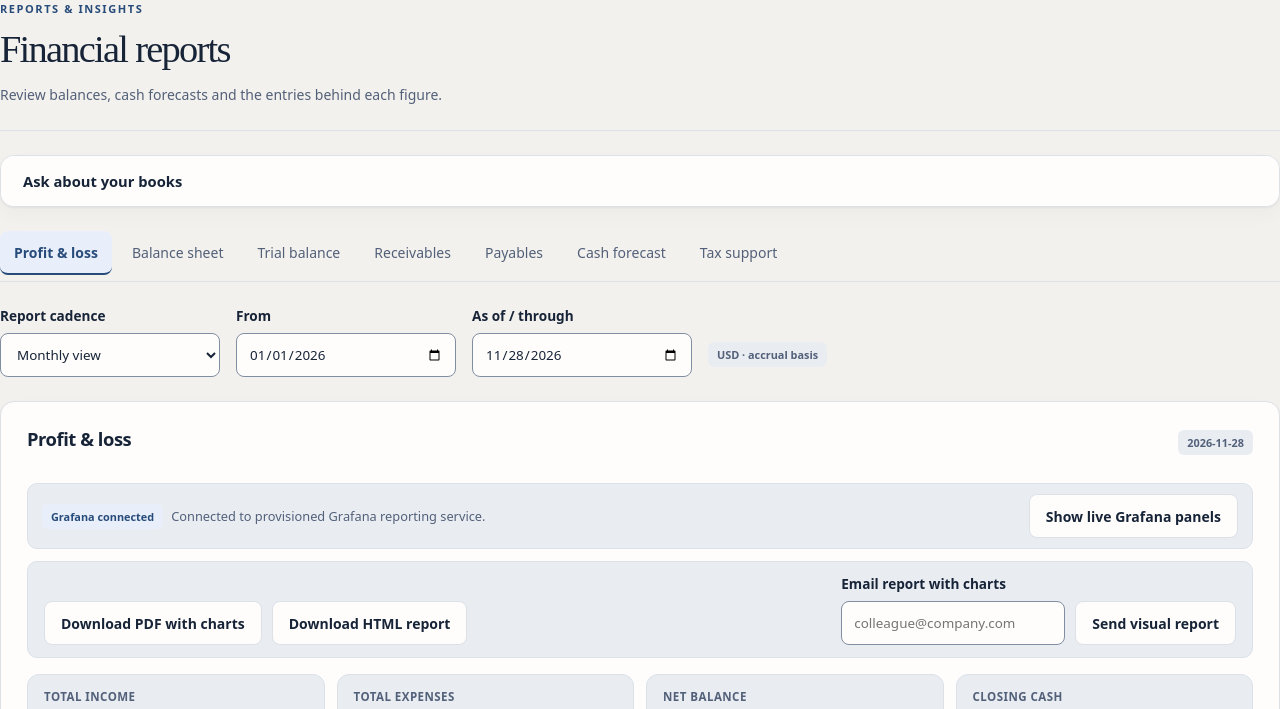
Test case: Grafana & visual financial / audit reports › renders Profit & Loss KPIs, charts, live Grafana toggle, and supporting table together
Expected: the text "Grafana connected" is shown, x1=42 y1=504 x2=163 y2=529
Note: Toggle live Grafana iframe panel
Click the button "Show live Grafana panels".
click(1133, 516)  # box x1=1029 y1=494 x2=1238 y2=538
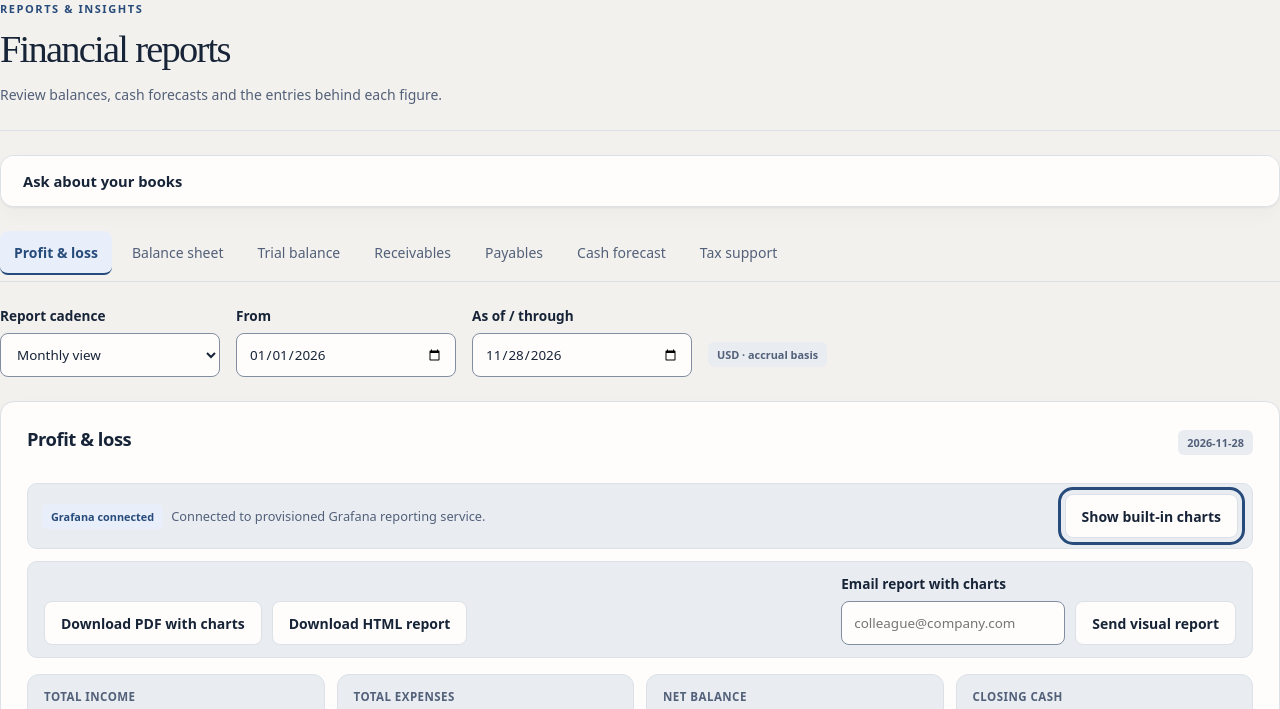
Click the tab "Balance sheet".
click(178, 253)  # box x1=118 y1=231 x2=237 y2=275
(page scrolled)
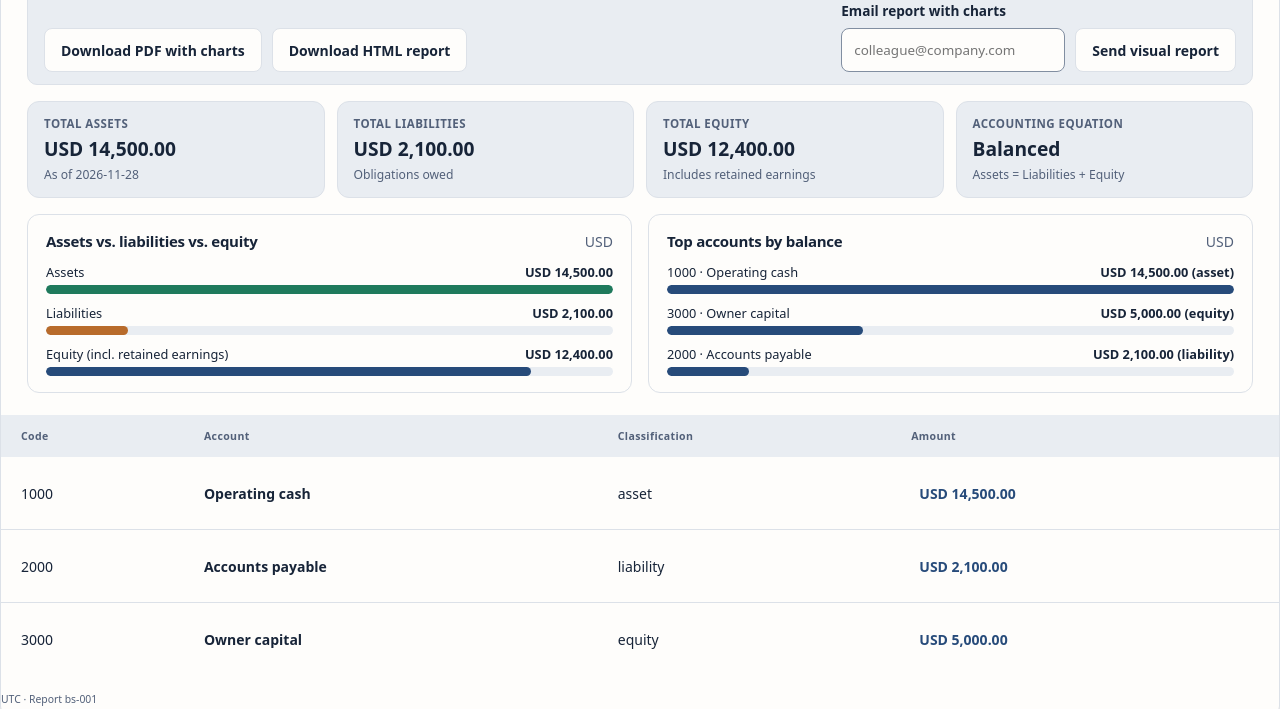
Now the text "Assets = Liabilities + Equity" is shown, box x1=972 y1=166 x2=1124 y2=183
Now the text "Balanced" is shown, box x1=972 y1=135 x2=1060 y2=162
Now the text "Operating cash" is shown, box x1=204 y1=484 x2=311 y2=503
